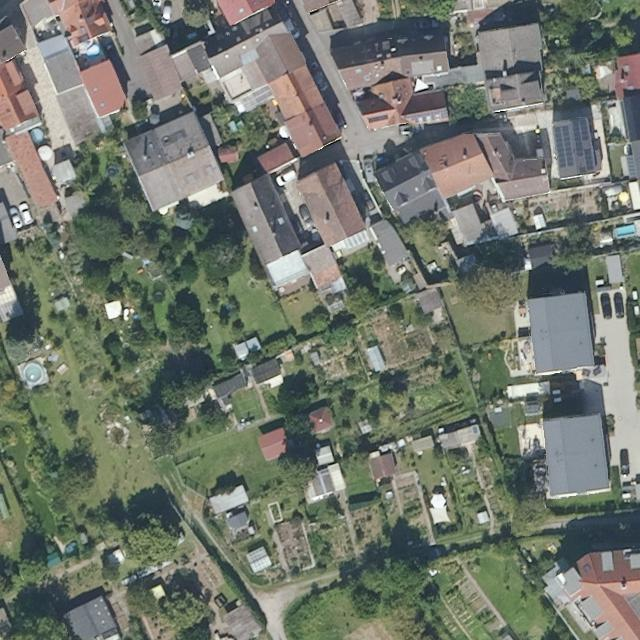PV: (550, 115, 597, 174)
